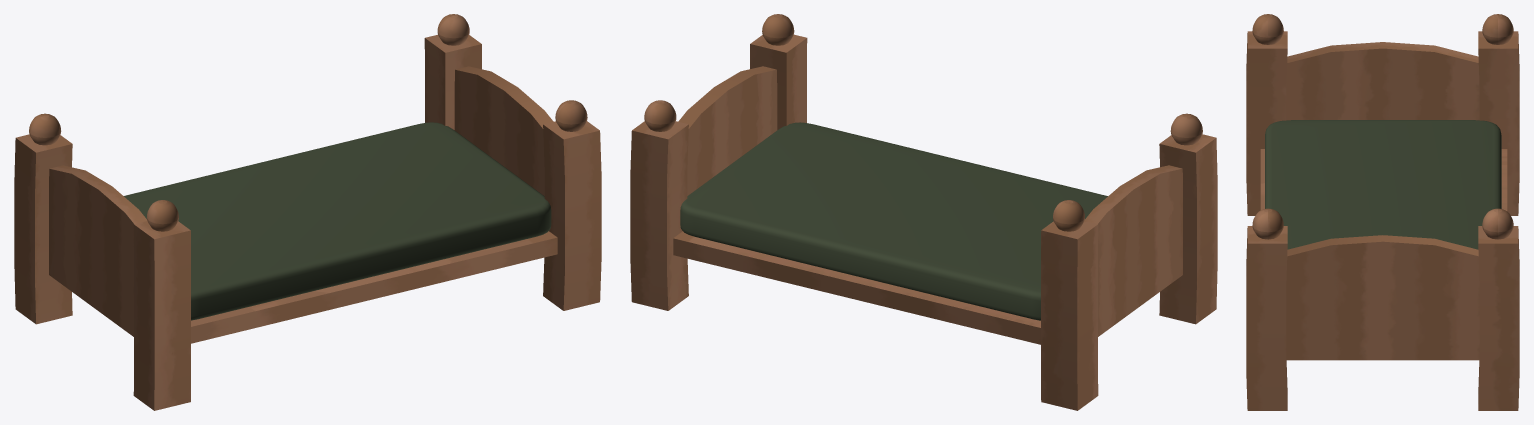
Rendered from lit.fbx.
3 renders of one model, left to right at view 1: azimuth 30°, elevation 25°; view 2: azimuth 150°, elevation 25°; view 3: azimuth 270°, elevation 25°, orthographic. The views are drawn at different scales.
Parts seen in each view (by area): view 1: T2_Lit; view 2: T2_Lit; view 3: T2_Lit.
Boxes of the visible parts, left/top/right/bottom form: T2_Lit: left=14, top=14, right=601, bottom=410; T2_Lit: left=630, top=14, right=1217, bottom=410; T2_Lit: left=1246, top=14, right=1519, bottom=410.
Bounding box in the file's own units: 206 × 86.7 × 112.
1 material, 1 textured.
